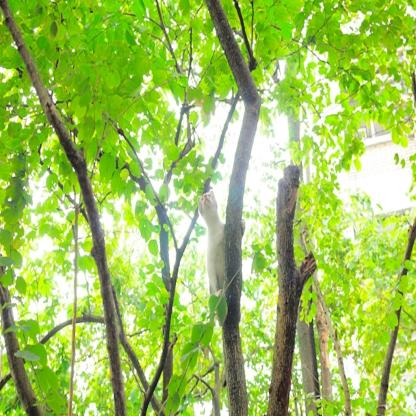Animal: (196, 188, 244, 301)
